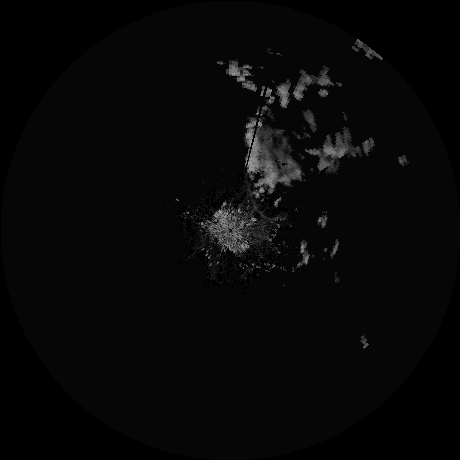frontgust: (248, 188, 282, 221)
